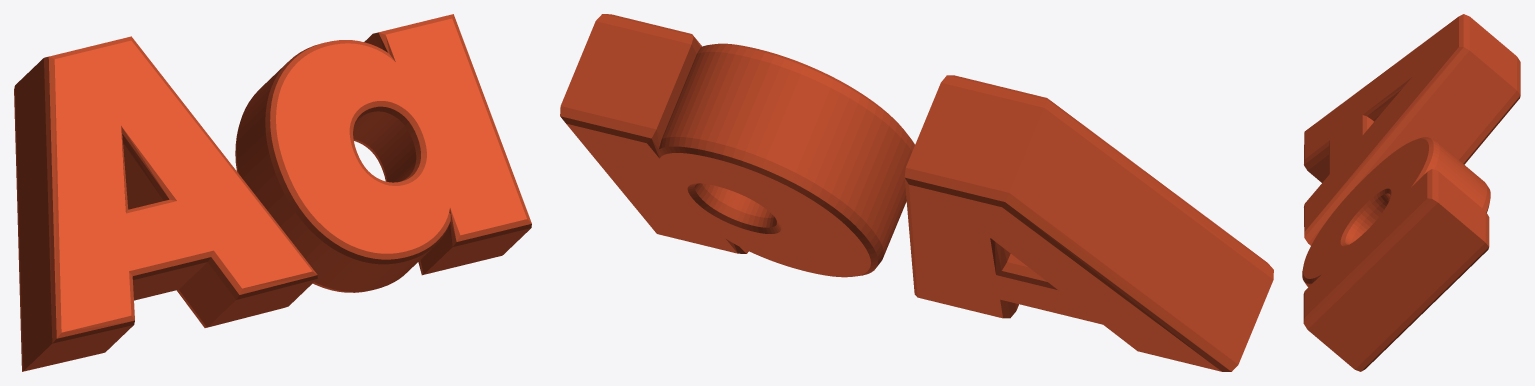
The picture shows the model from 3 angles, left to right: view 1: azimuth 30°, elevation 25°; view 2: azimuth 150°, elevation 25°; view 3: azimuth 270°, elevation 25°; orthographic projection. The views are drawn at different scales.
Visible parts, largest first — view 1: letter; view 2: letter; view 3: letter.
Boxes of the visible parts, left/top/right/bottom form: letter: left=14, top=14, right=531, bottom=371; letter: left=560, top=14, right=1273, bottom=371; letter: left=1302, top=14, right=1520, bottom=371.
Bounding box in the file's own units: 1.96 × 0.9789 × 0.9445.
